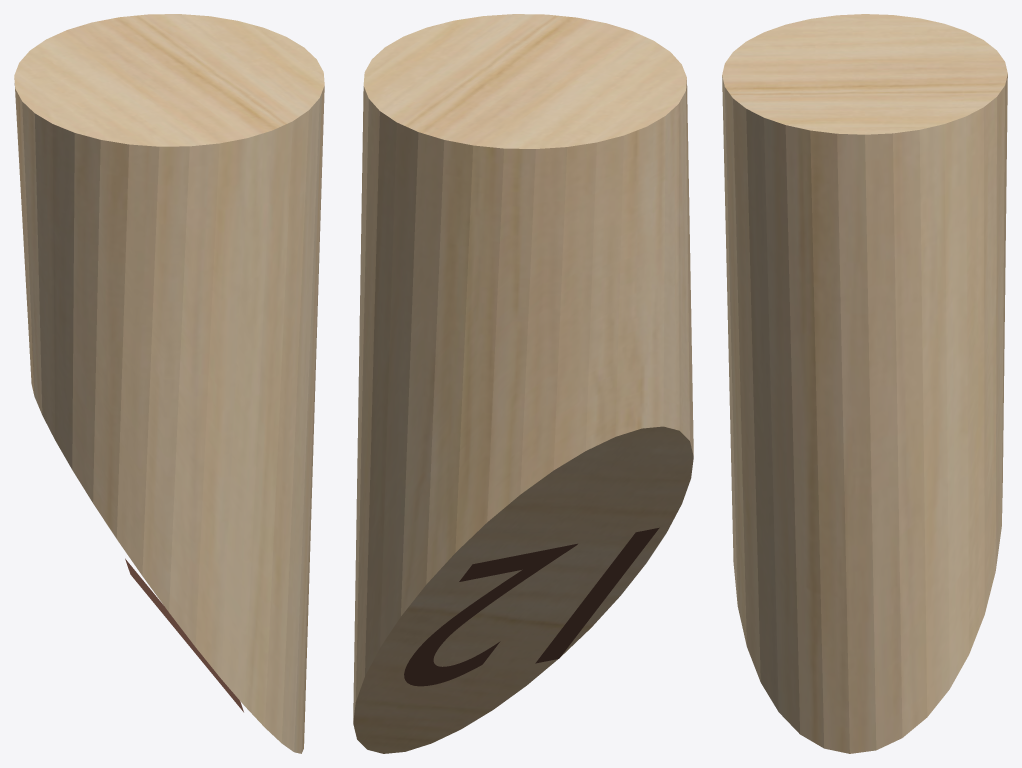
File: pin13.glb
The picture shows the model from 3 angles, left to right: view 1: azimuth 30°, elevation 25°; view 2: azimuth 150°, elevation 25°; view 3: azimuth 270°, elevation 25°; orthographic projection. The views are drawn at different scales.
Parts seen in each view (by area): view 1: 円柱.005; view 2: 円柱.005; view 3: 円柱.005.
Boxes of the visible parts, x1,y1,x2,y2 form: 円柱.005: (14, 14, 324, 753); 円柱.005: (353, 14, 693, 753); 円柱.005: (722, 14, 1007, 753).
Bounding box in the file's own units: 1.16 × 2.79 × 1.16.
Materials: 2 (1 with a texture image).
